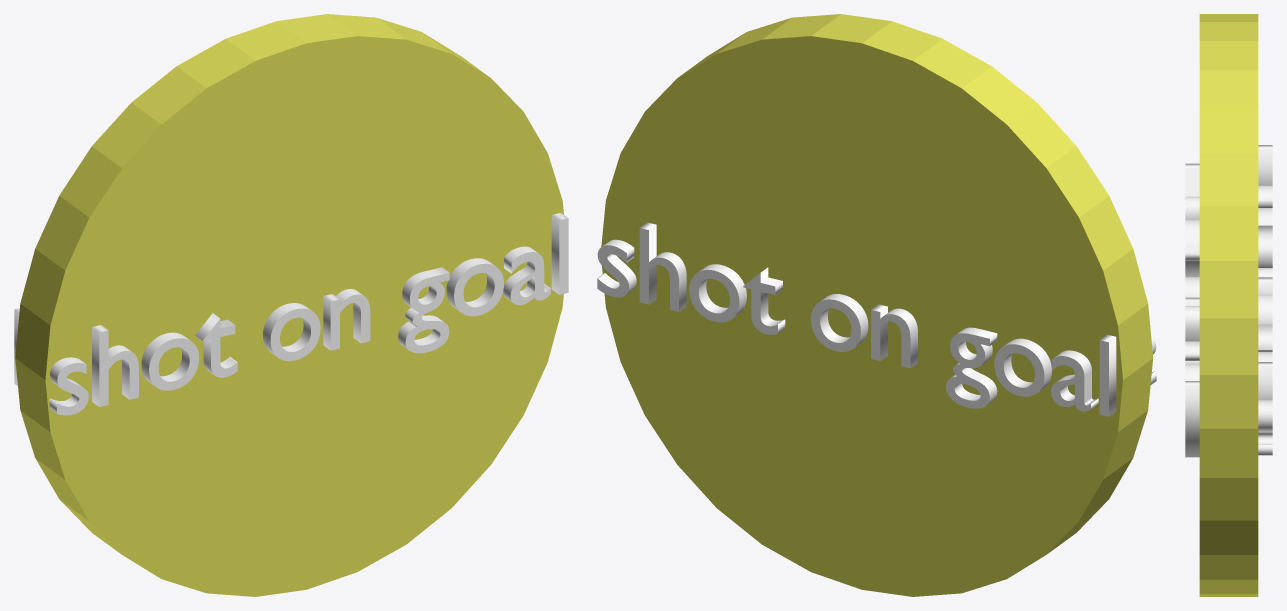
Rendered from shot_on_goal.glb.
3 renders of one model, left to right at view 1: azimuth 30°, elevation 25°; view 2: azimuth 150°, elevation 25°; view 3: azimuth 270°, elevation 25°, orthographic. The views are drawn at different scales.
Parts seen in each view (by area): view 1: Coin_shot_on_goal; view 2: Coin_shot_on_goal; view 3: Coin_shot_on_goal.
Part boxes in pixels (x1,y1,x2,y2): Coin_shot_on_goal: (14, 14, 568, 596); Coin_shot_on_goal: (597, 14, 1156, 596); Coin_shot_on_goal: (1185, 14, 1272, 596).
Bounding box in the file's own units: 2 × 2 × 0.3.
